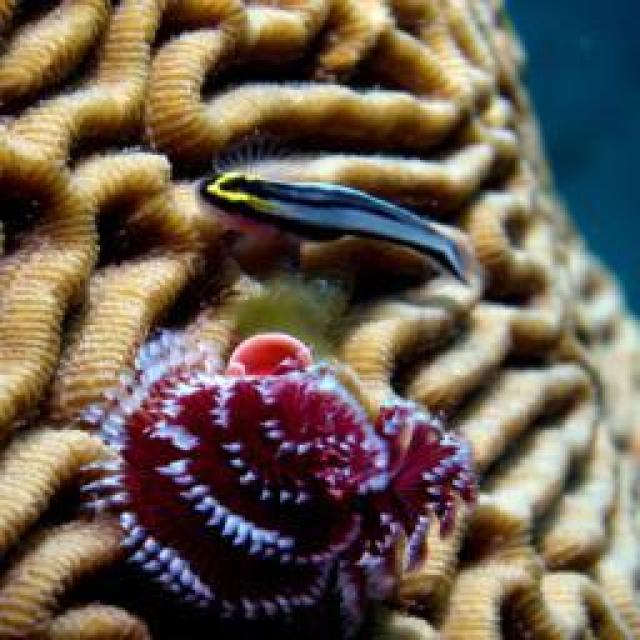fish: (197, 173, 480, 282)
reefs: (0, 0, 638, 638), (69, 329, 481, 634)
